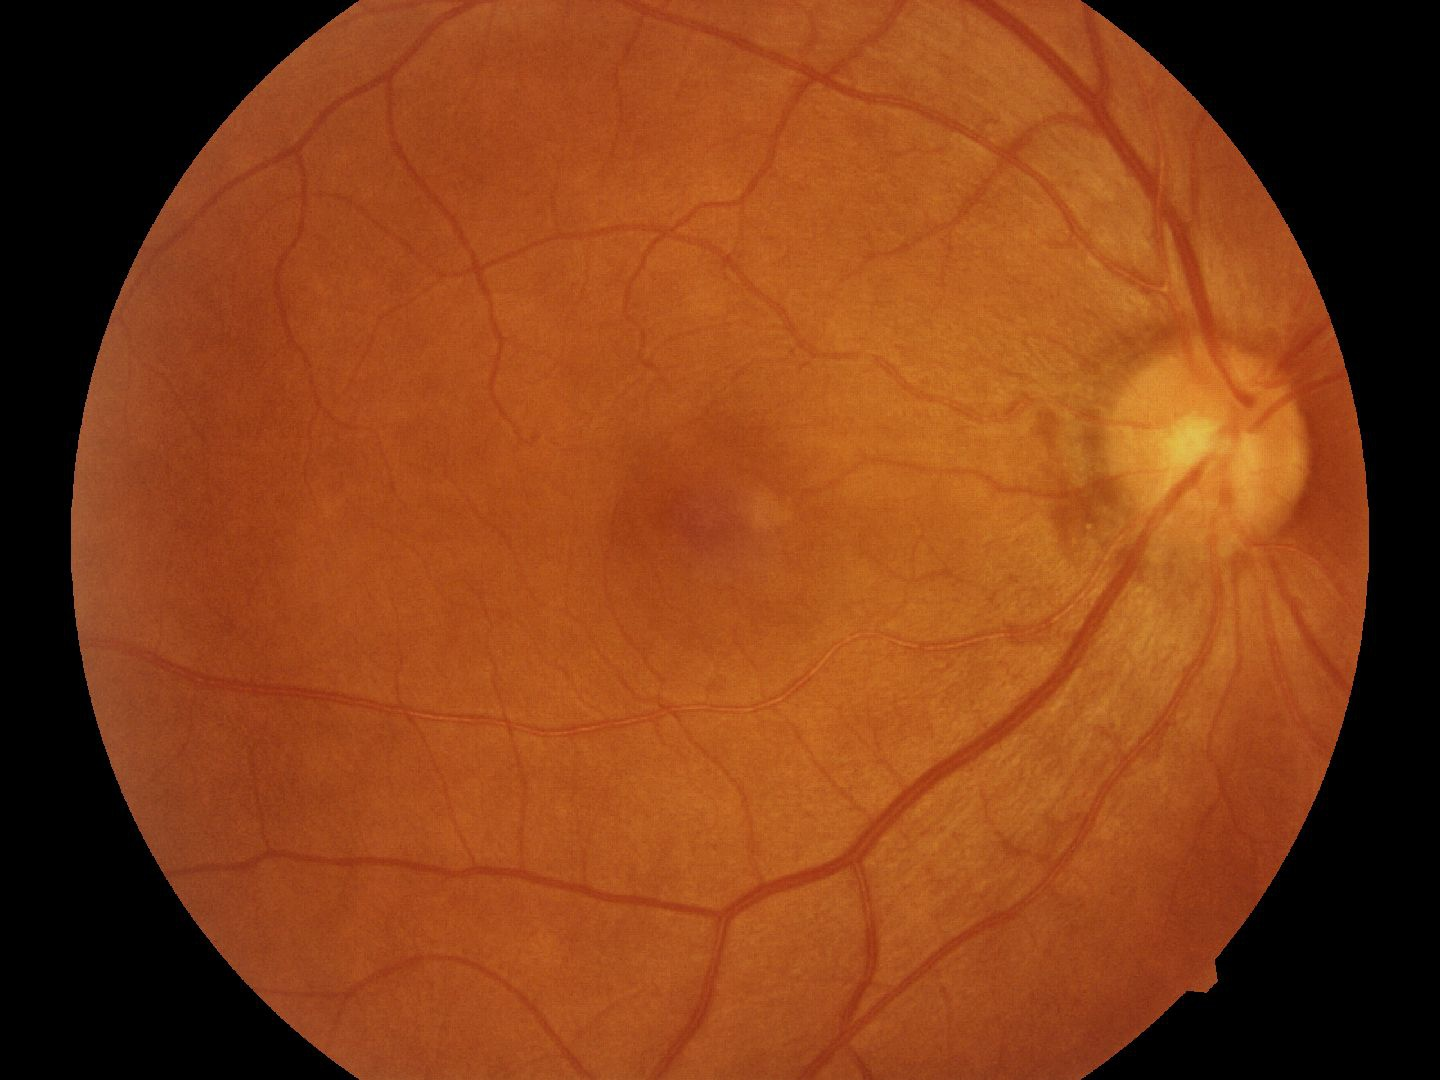Hemorrhages: (619, 404, 795, 624)
Optic-Disc: (1112, 319, 1316, 577)
Venules: (708, 674, 1051, 957), (1054, 43, 1187, 244)
